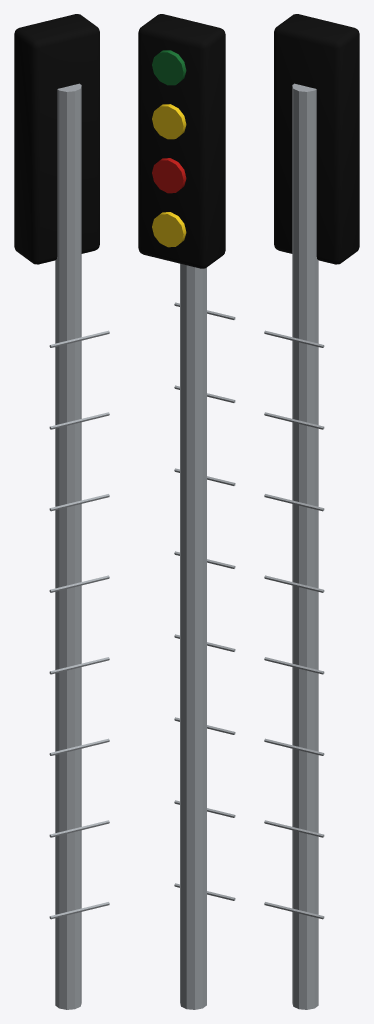
File: rail.feature.signal.glb
3 renders of one model, left to right at view 1: azimuth 30°, elevation 25°; view 2: azimuth 150°, elevation 25°; view 3: azimuth 330°, elevation 25°, orthographic.
Parts seen in each view (by area): view 1: main__steel_galvanised, main__plastic_black; view 2: main__steel_galvanised, main__plastic_black, main__plastic_yellow, main__plastic_green, main__hazard_red; view 3: main__steel_galvanised, main__plastic_black.
Part boxes in pixels (x1,y1,x2,y2): main__steel_galvanised: (49, 83, 109, 1009); main__plastic_black: (14, 14, 99, 264); main__steel_galvanised: (174, 263, 235, 1009); main__plastic_black: (138, 14, 225, 268); main__plastic_yellow: (152, 104, 186, 247); main__plastic_green: (152, 50, 186, 85); main__hazard_red: (152, 158, 186, 193); main__steel_galvanised: (264, 83, 324, 1009); main__plastic_black: (274, 14, 359, 264).
Bounding box in the file's own units: 0.35 × 4.75 × 0.3326.
